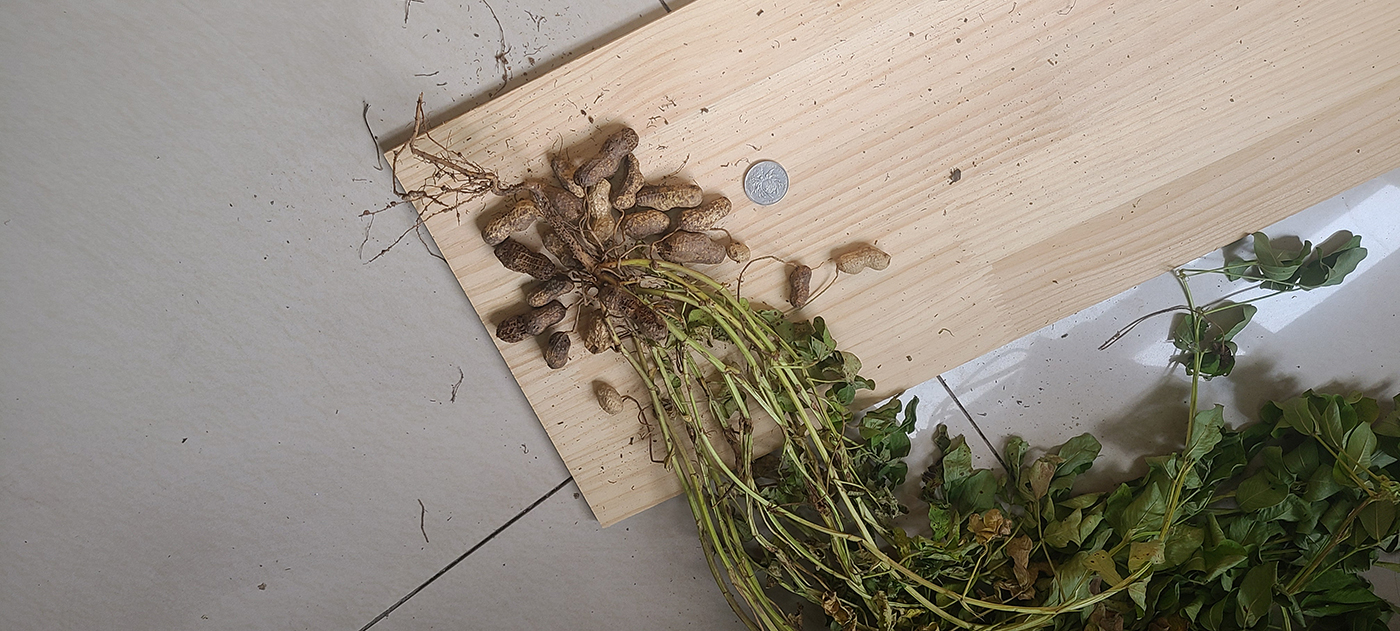h: (483, 198, 537, 244), (542, 229, 583, 271), (638, 184, 704, 210), (585, 179, 612, 242), (679, 198, 732, 230), (836, 247, 892, 275), (616, 153, 644, 209), (550, 158, 583, 199), (622, 211, 671, 237), (584, 309, 611, 354), (553, 190, 583, 223), (594, 385, 624, 416), (728, 241, 751, 262)
l: (575, 128, 639, 186), (601, 287, 666, 340), (497, 304, 565, 342), (495, 240, 556, 280), (657, 232, 726, 265), (528, 275, 576, 304), (545, 331, 571, 369), (790, 265, 811, 311)
